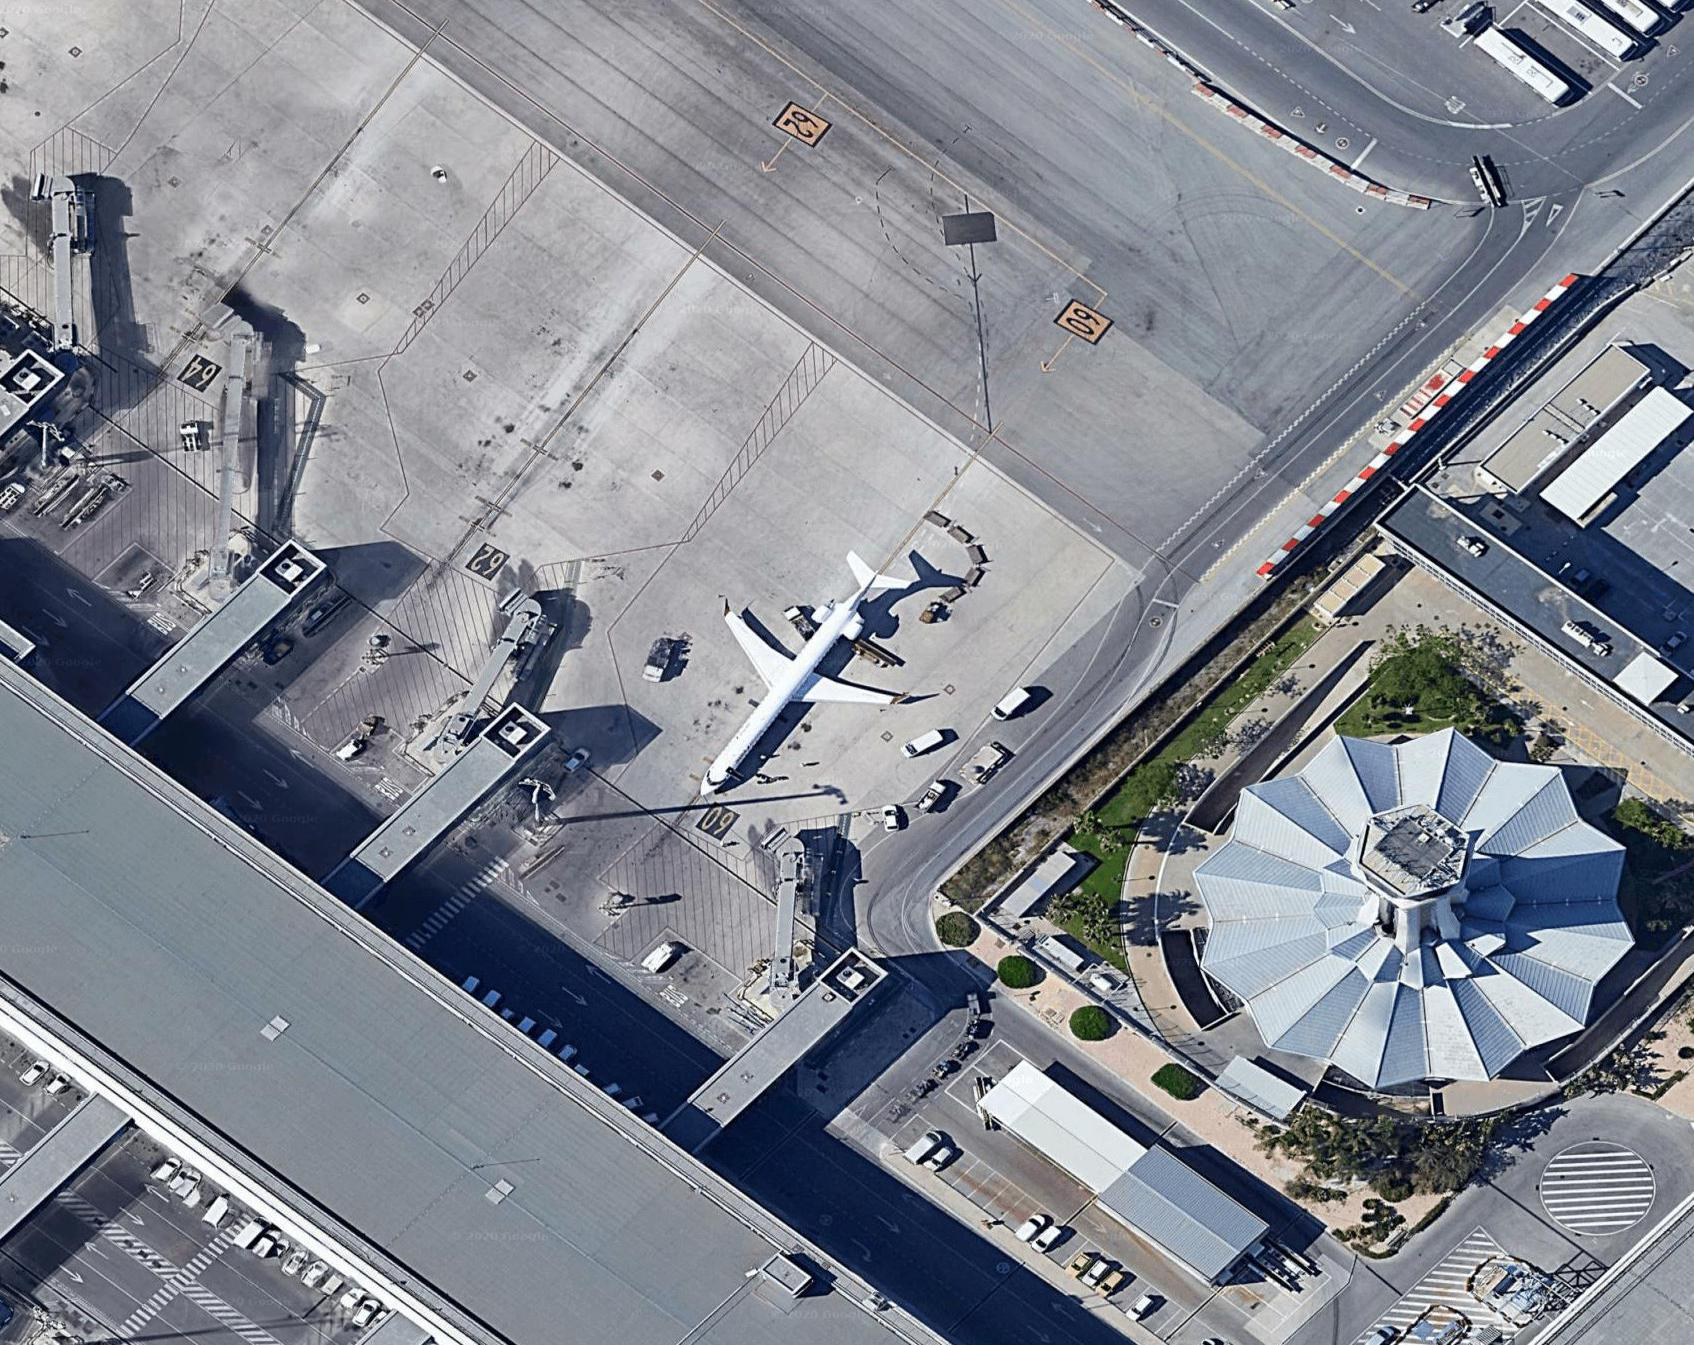large-vehicle: (1464, 12, 1573, 109), (1534, 0, 1640, 70)
plane: (624, 496, 995, 855)
